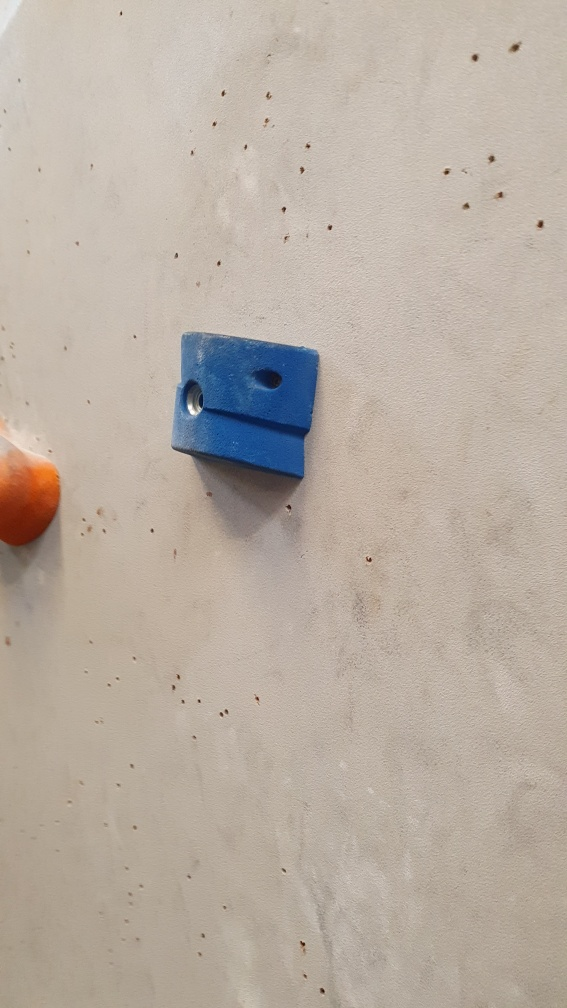Pinch: (165, 324, 320, 487)
